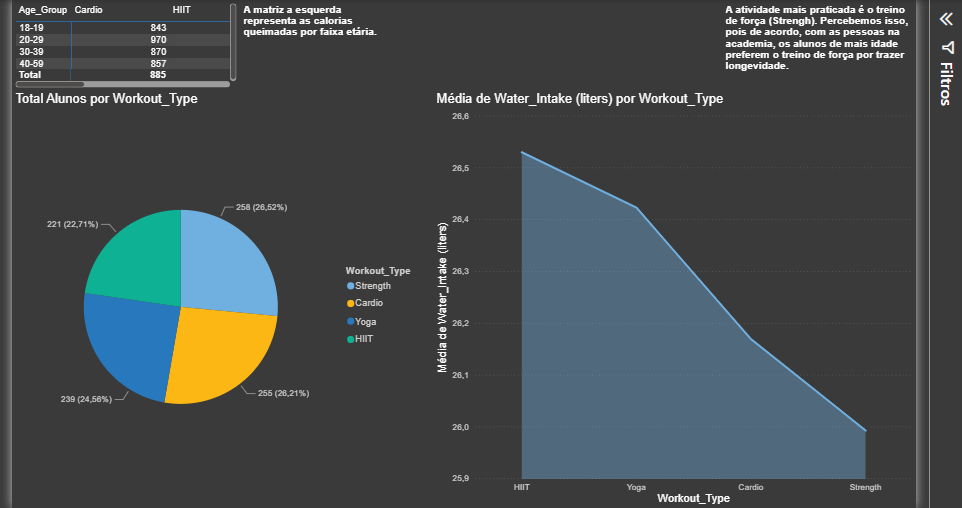

This screenshot's page, from the dashboard's own definition file:
{"tool":"powerbi","page":{"name":"Atividades mais Praticadas","canvas":[1280,720],"ordinal":4},"visuals":[{"type":"pieChart","fields":{"Y":["gym_members_exercise_tracking.Total Alunos"],"Category":["gym_members_exercise_tracking.Workout_Type"]},"box":[0,129.1,586.5,590.9],"z":0},{"type":"pivotTable","fields":{"Rows":["gym_members_exercise_tracking.Age_Group"],"Columns":["gym_members_exercise_tracking.Workout_Type"],"Values":["Avg(gym_members_exercise_tracking.Calories_Burned_Adjusted)"]},"box":[0,0,323.1,129.1],"z":1000},{"type":"areaChart","fields":{"Category":["gym_members_exercise_tracking.Workout_Type"],"Y":["Avg(gym_members_exercise_tracking.Water_Intake (liters))"]},"box":[597.1,129.1,683.1,590.9],"z":2000},{"type":"textbox","box":[1006.2,0,274,129.1],"z":3000},{"type":"textbox","box":[323.1,0,204.6,129.1],"z":4000}]}

Visuals, with their boxes on the page's 1280x720 design canvas (x1, y1, x2, y2). These are canvas units, not pixel positions in the 962x508 screenshot, which may show the page scaled, cropped or inside an application window:
pieChart - gym_members_exercise_tracking.Total Alunos x gym_members_exercise_tracking.Workout_Type: [0,129,586,720]
pivotTable - gym_members_exercise_tracking.Age_Group x gym_members_exercise_tracking.Workout_Type: [0,0,323,129]
areaChart - gym_members_exercise_tracking.Workout_Type x Avg(gym_members_exercise_tracking.Water_Intake (liters)): [597,129,1280,720]
textbox: [1006,0,1280,129]
textbox: [323,0,528,129]
